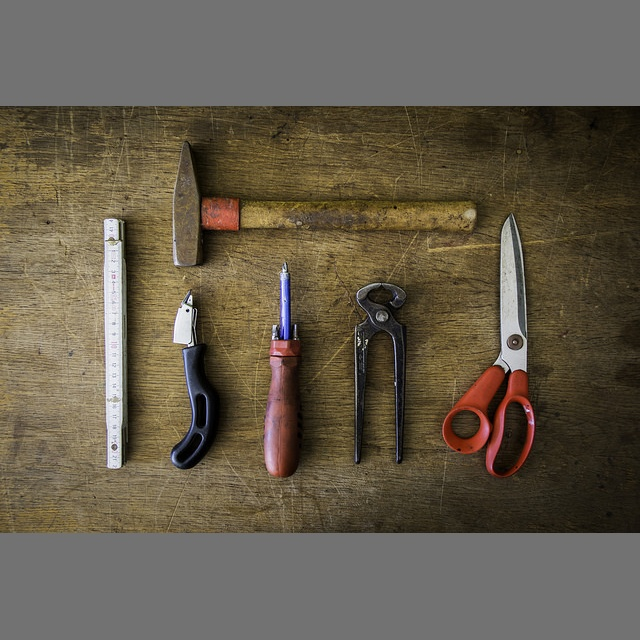scissor: (439, 213, 541, 481)
screwdriver: (251, 256, 317, 483)
